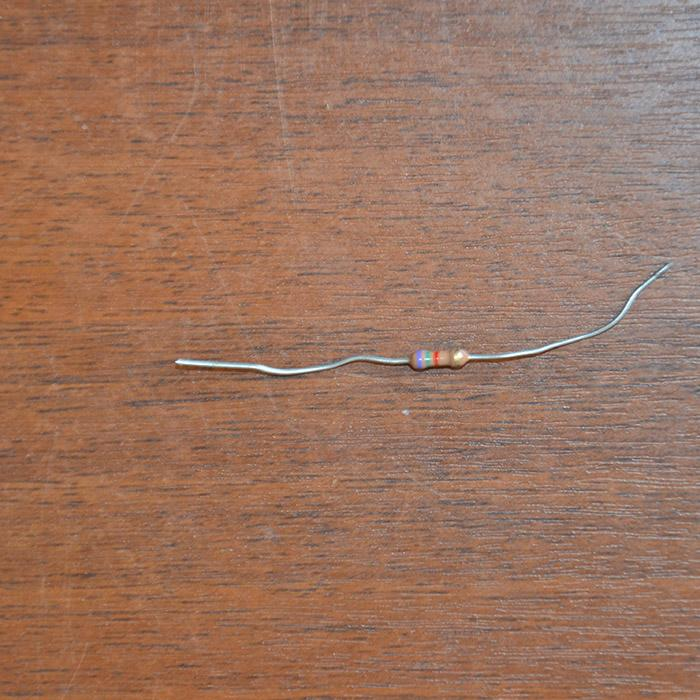resistor: (409, 347, 468, 370)
